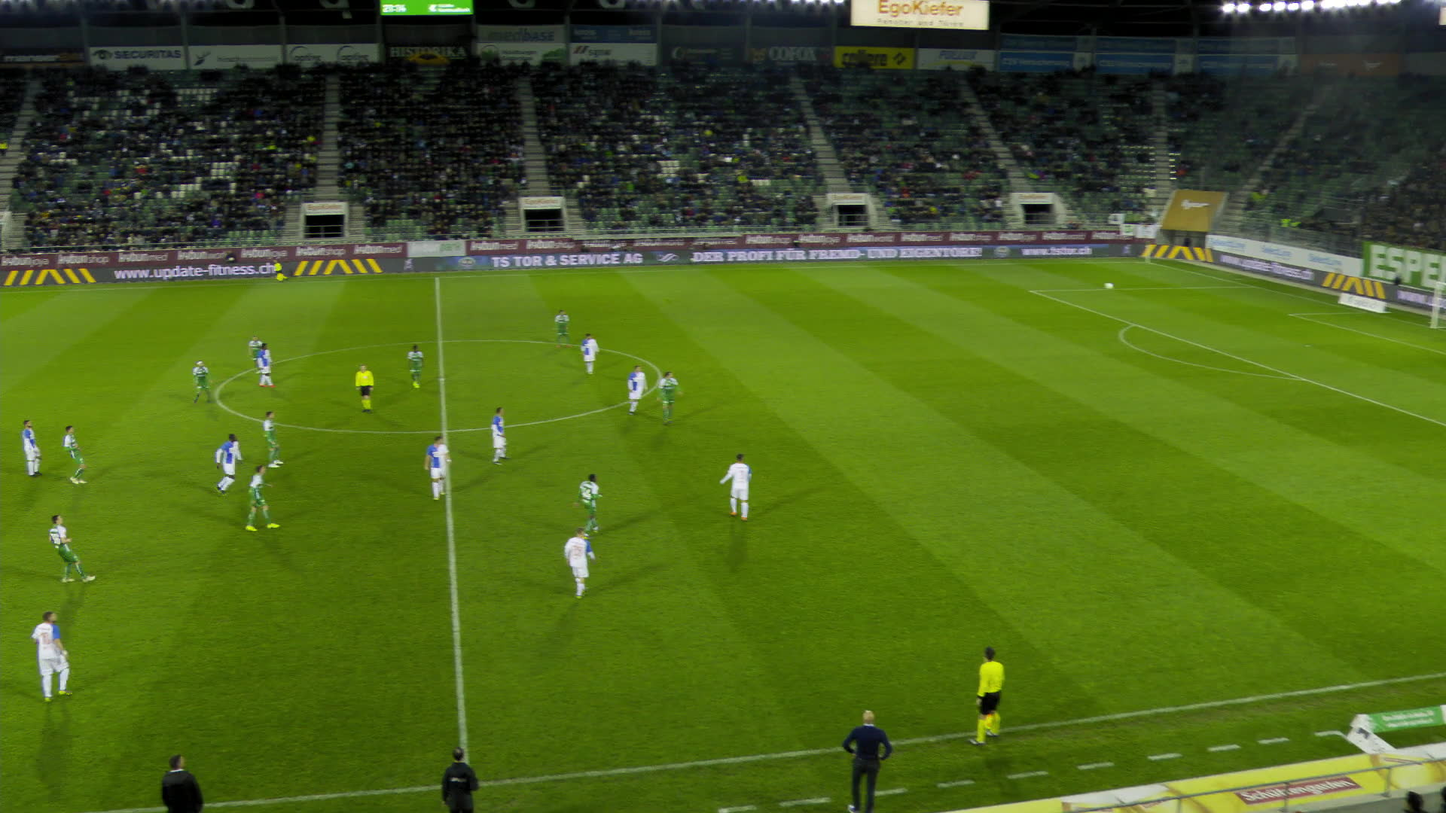ball: (1112, 284, 1121, 291)
player: (27, 611, 71, 702), (43, 514, 85, 583), (58, 424, 95, 486), (715, 454, 749, 521), (559, 526, 590, 598), (240, 464, 271, 531), (209, 435, 242, 496), (419, 435, 447, 499), (571, 473, 598, 537), (16, 421, 43, 479), (652, 371, 678, 425), (258, 411, 282, 468), (187, 359, 212, 404), (621, 365, 642, 415), (486, 406, 504, 464), (243, 335, 264, 374), (252, 343, 270, 388), (575, 333, 594, 374), (402, 345, 419, 389), (549, 309, 566, 347)
referee: (963, 645, 1001, 744), (349, 364, 371, 413), (268, 257, 283, 282)
